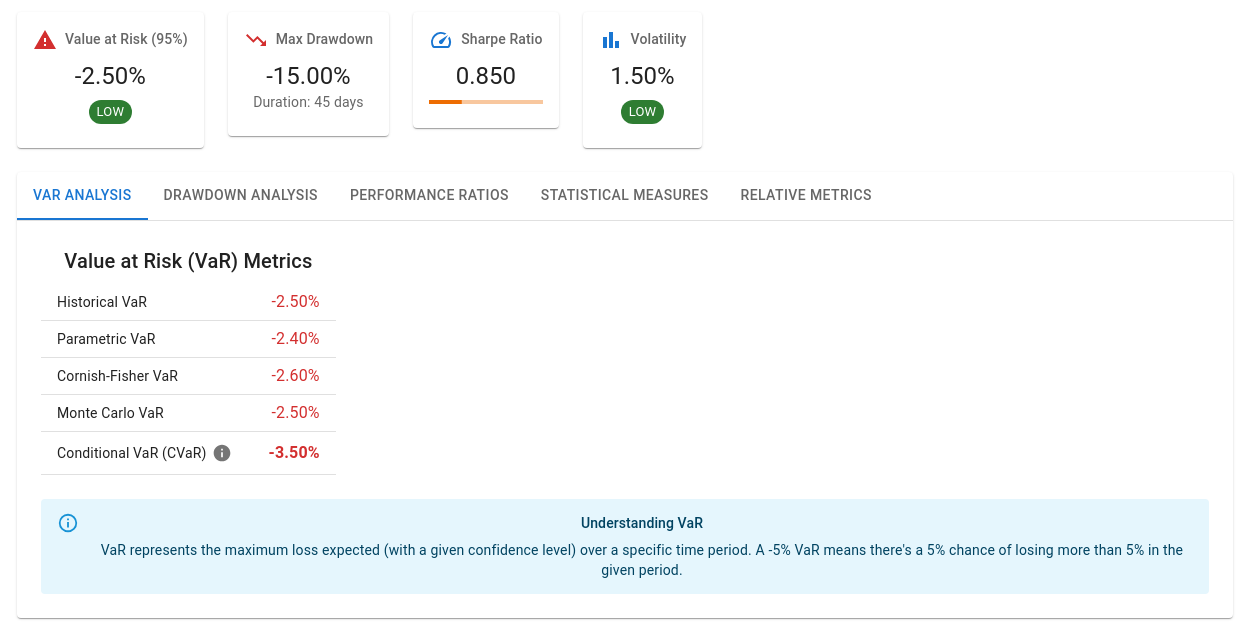
Scenario: RiskAnalysis › displays relative metrics when available
Click the tab "Relative Metrics".
click(806, 196)  # box [724,172,888,220]
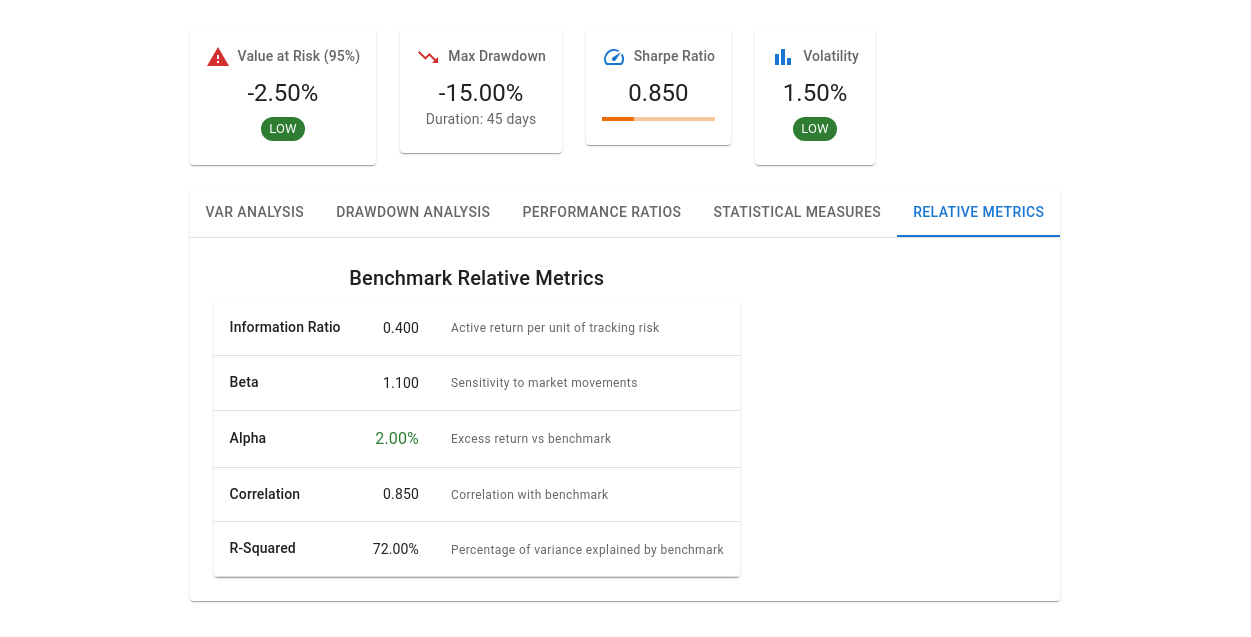
Expected: the heading "Benchmark Relative Metrics" is shown, [349,266,604,290]
Expected: the heading "Information Ratio" is shown, [230,317,341,339]
Expected: the heading "Beta" is shown, [230,374,259,390]
